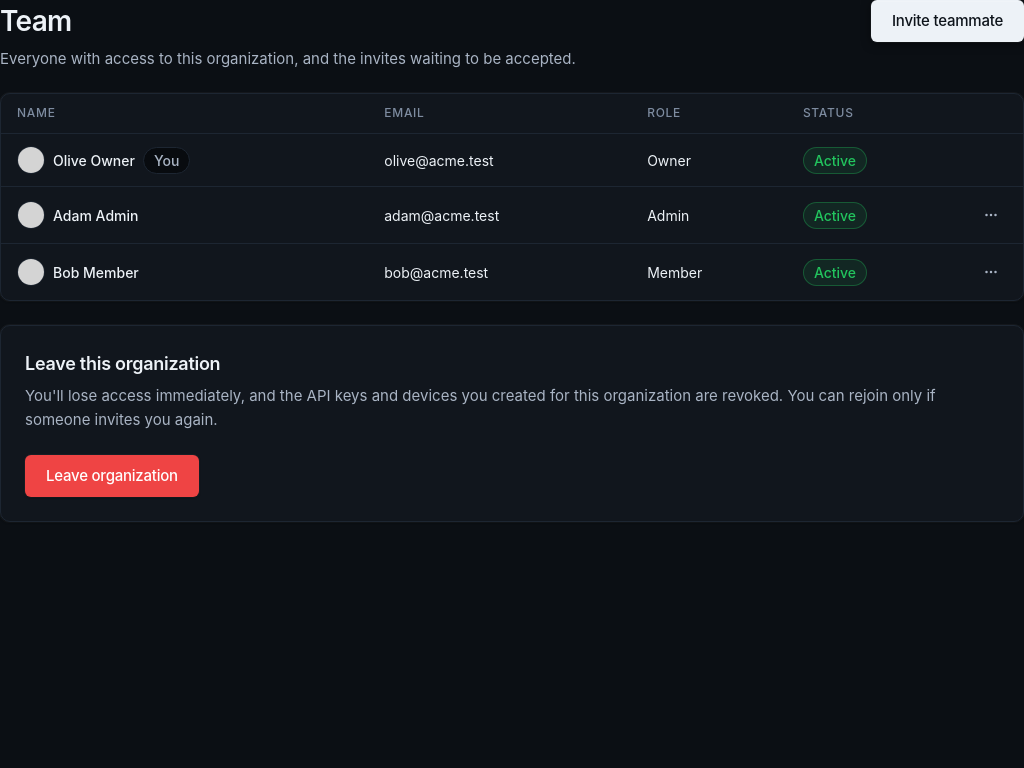
Test: TeamManager — invites › submits the invite and shows the shareable accept link
Click the button "Invite teammate".
click(948, 21)  # box [871, 0, 1023, 42]
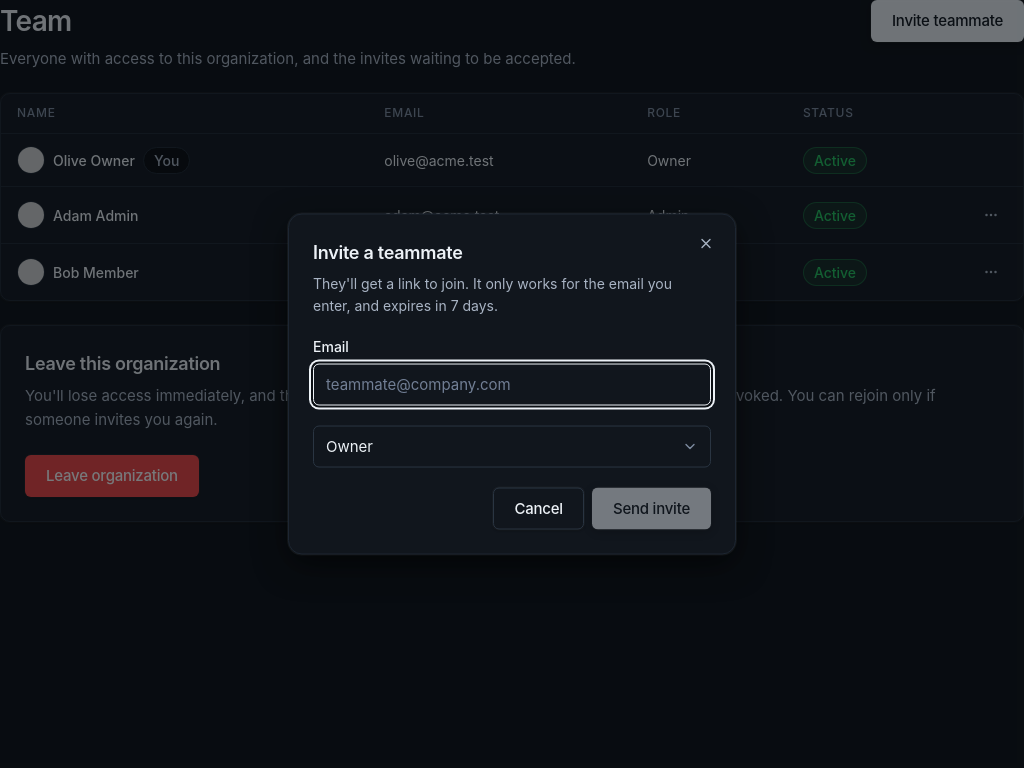
Type "carol@acme.test" into the field labelled "Email".
click(512, 384); type("carol@acme.test")  # box [313, 364, 711, 406]
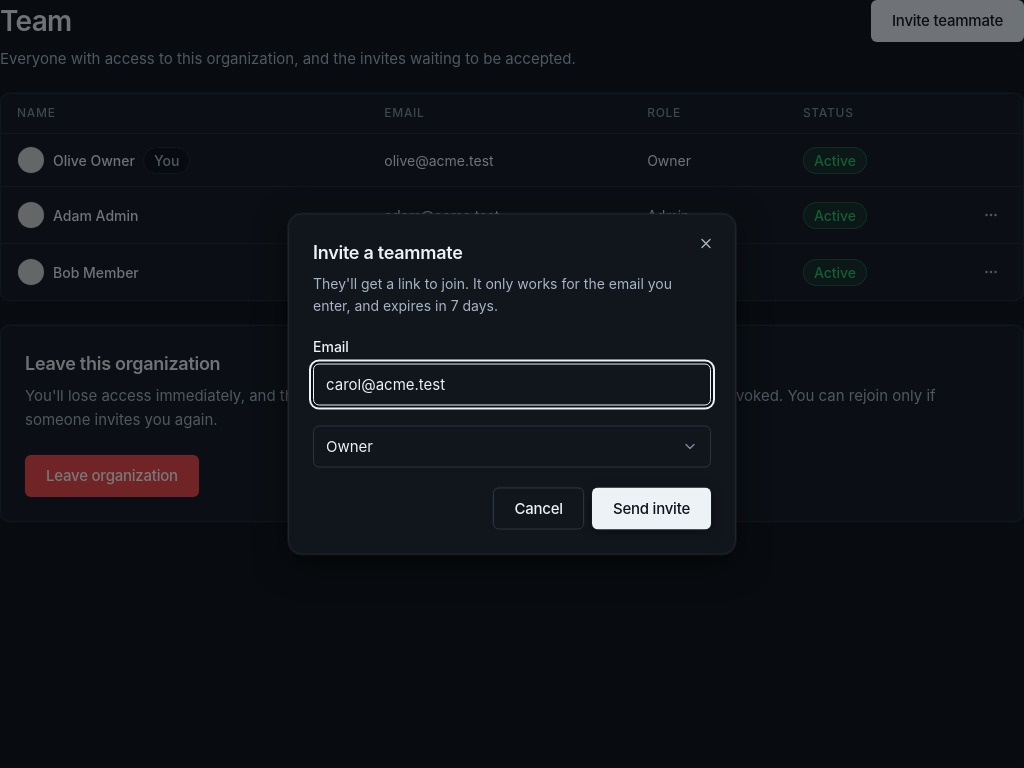
Click the button "Send invite".
click(651, 508)  # box [592, 488, 711, 530]
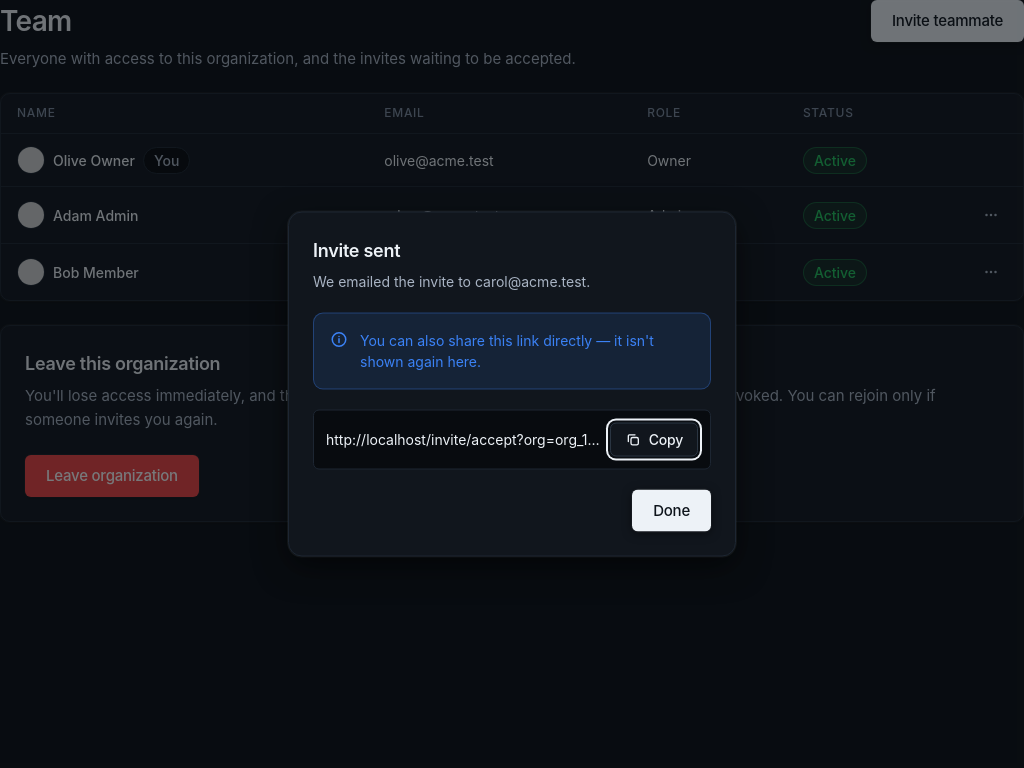
Expected: the text "http://localhost/invite/accept?org=org_1&token=whinv_secret" is shown, [326, 429, 602, 450]
